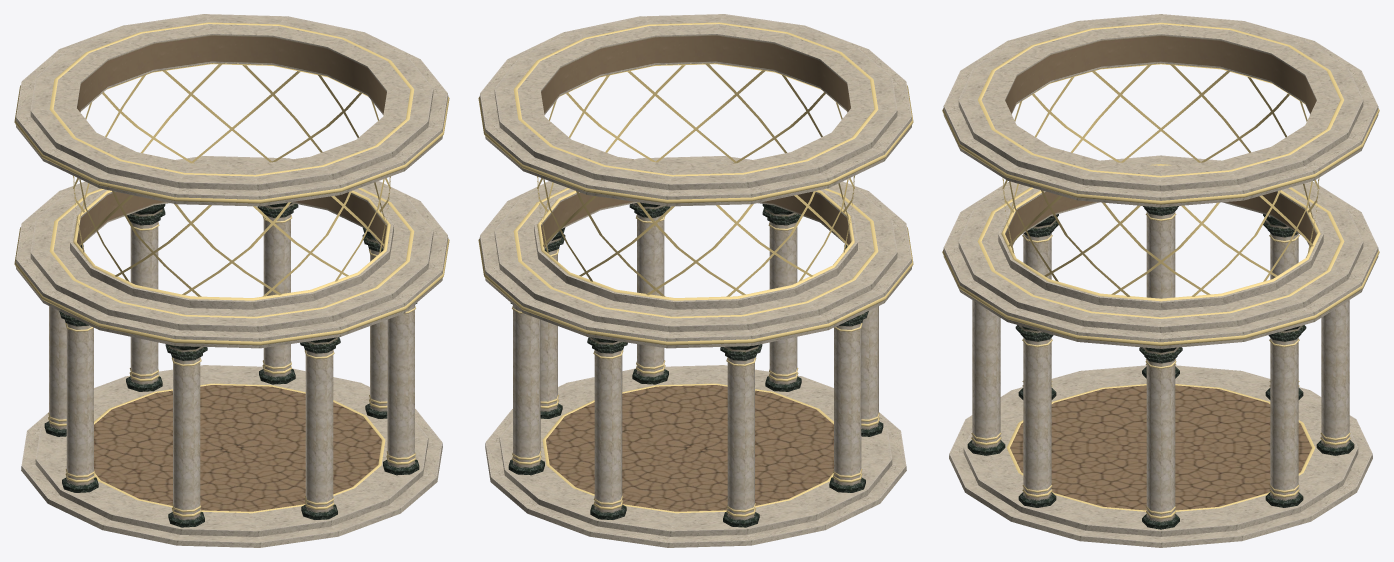
Rendered from tower-base-01-art.glb.
3 views of the same model, side by side, from view 1: azimuth 30°, elevation 25°; view 2: azimuth 150°, elevation 25°; view 3: azimuth 270°, elevation 25° (orthographic).
Visible parts, largest first — view 1: Tower_Base_01_Art; view 2: Tower_Base_01_Art; view 3: Tower_Base_01_Art.
Part boxes in pixels (x1,y1,x2,y2): Tower_Base_01_Art: (14,14,449,547); Tower_Base_01_Art: (478,14,913,547); Tower_Base_01_Art: (942,14,1379,547).
Bounding box in the file's own units: 15.74 × 14.25 × 15.74.
Materials: 1 (1 with a texture image).
